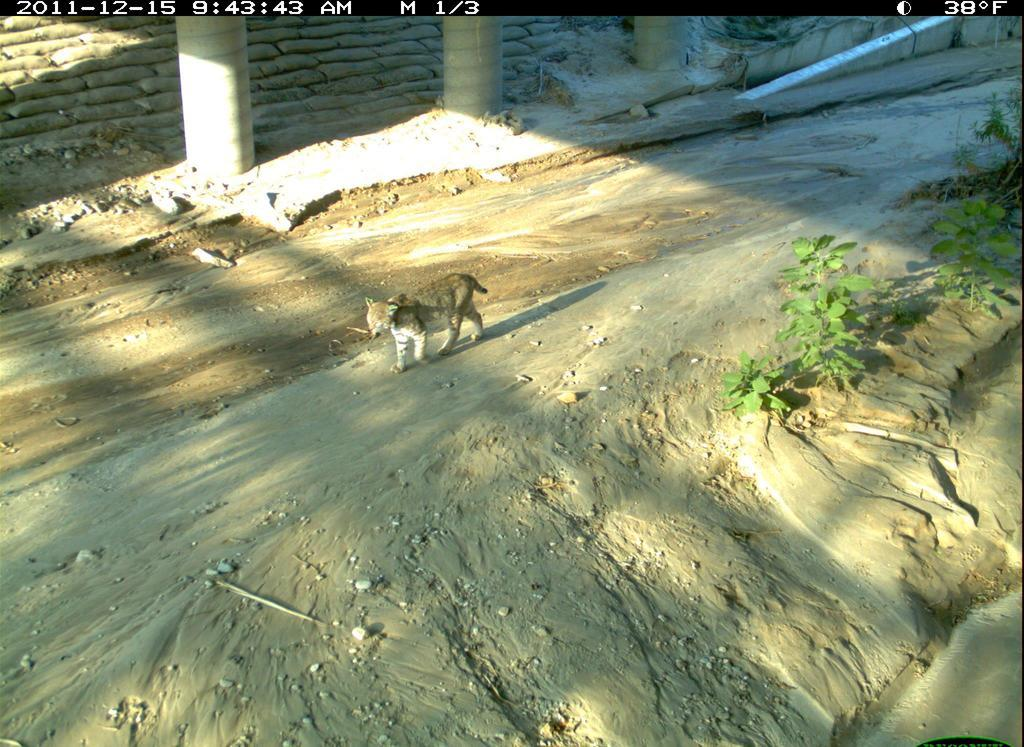bobcat: (358, 267, 495, 381)
